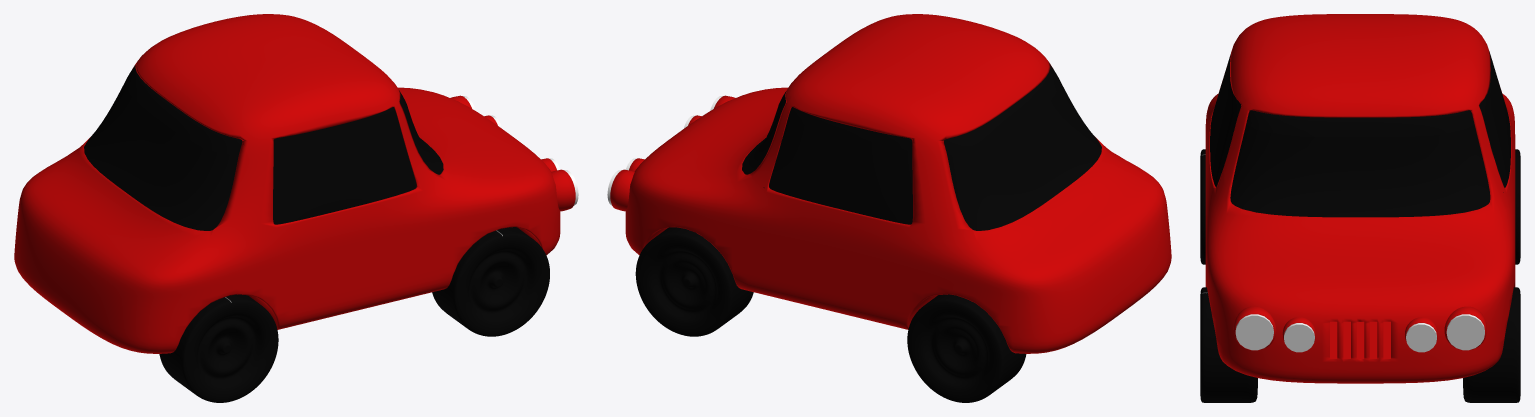
File: oCar.fbx
3 renders of one model, left to right at view 1: azimuth 30°, elevation 25°; view 2: azimuth 150°, elevation 25°; view 3: azimuth 270°, elevation 25°, orthographic. The views are drawn at different scales.
Parts seen in each view (by area): view 1: Body, Cube.003, Cylinder.004, Cylinder.005, Sphere; view 2: Body, Cube.003, Cylinder.006, Cylinder.007, Sphere; view 3: Body, Cube.003, Cylinder.007, Cylinder.005, Cylinder001, Cylinder002, Sphere, Cylinder003, Cylinder004, Cylinder.004, Cylinder.006, Sphere.001.
Boxes of the visible parts, x1,y1,x2,y2 form: Body: [14, 14, 560, 353]; Cube.003: [84, 65, 443, 230]; Cylinder.004: [159, 294, 278, 402]; Cylinder.005: [432, 227, 549, 336]; Sphere: [450, 95, 575, 211]; Body: [625, 14, 1171, 353]; Cube.003: [742, 65, 1101, 230]; Cylinder.006: [907, 294, 1026, 402]; Cylinder.007: [635, 227, 753, 336]; Sphere: [610, 95, 735, 211]; Body: [1205, 14, 1515, 383]; Cube.003: [1210, 51, 1510, 217]; Cylinder.007: [1463, 287, 1520, 402]; Cylinder.005: [1200, 287, 1257, 402]; Cylinder001: [1235, 314, 1273, 350]; Cylinder002: [1446, 314, 1484, 350]; Sphere: [1233, 306, 1486, 350]; Cylinder003: [1284, 323, 1314, 352]; Cylinder004: [1406, 323, 1436, 352]; Cylinder.004: [1200, 149, 1205, 264]; Cylinder.006: [1515, 149, 1520, 264]; Sphere.001: [1282, 317, 1437, 341].
Size of the model in its own units: 4600 by 2522 by 2629.
